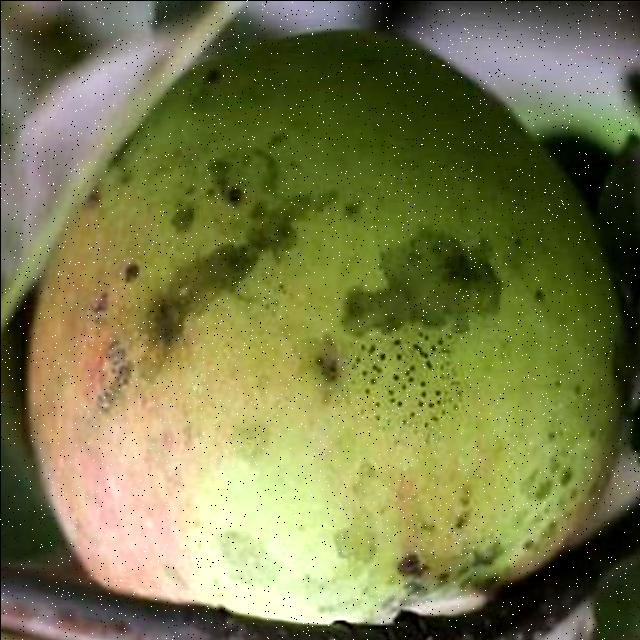BLOTCH: (30, 30, 604, 621)
